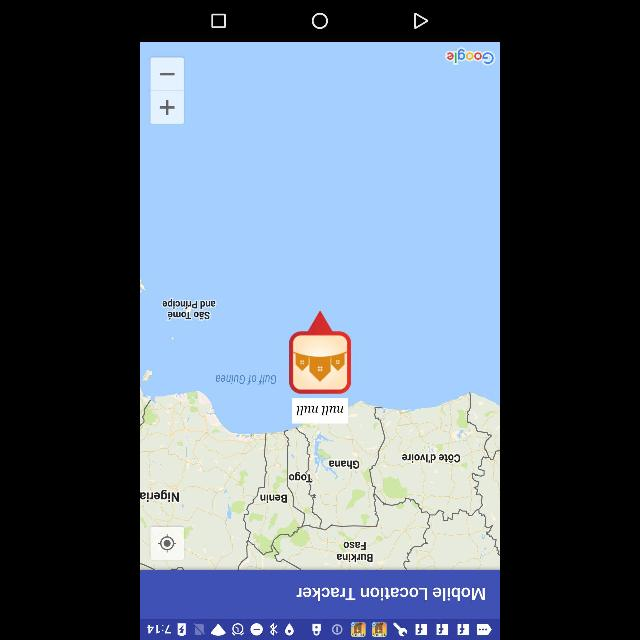icon: (412, 11, 430, 29), (210, 12, 228, 30), (310, 13, 330, 29), (158, 534, 175, 550)
map: (142, 42, 498, 570)
panel: (141, 1, 499, 41)
text: (297, 584, 487, 602), (296, 402, 346, 422)
toolbar: (140, 570, 500, 618)
uppertaskbar: (140, 618, 500, 640)
